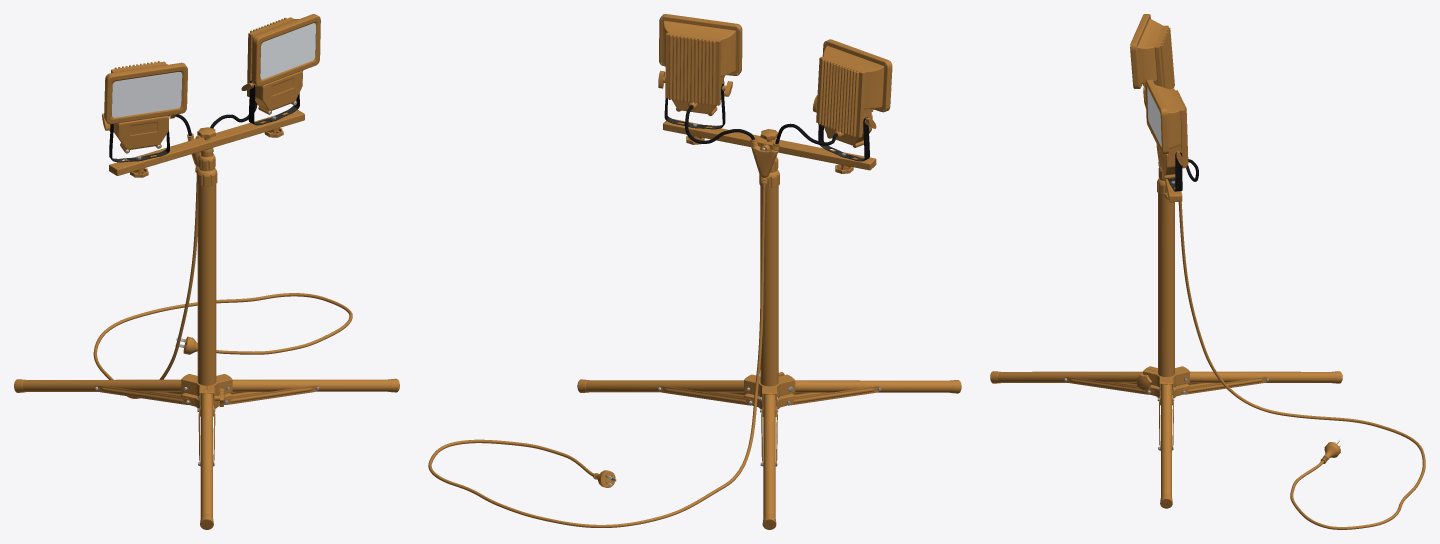
Rendered from WorklightSFAB.fbx.
The picture shows the model from 3 angles, left to right: view 1: azimuth 30°, elevation 25°; view 2: azimuth 150°, elevation 25°; view 3: azimuth 270°, elevation 25°; orthographic projection. The views are drawn at different scales.
Visible parts, largest first — view 1: Frame Vert, Light Left, Light Right, Light L Glass, Cord Primary, Horizontal Frame, Light R Glass, Leg A, Leg B, Leg C, Upper Trige, Struts B (+3 smaller); view 2: Light Right, Light Left, Frame Vert, Cord Primary, Horizontal Frame, Leg A, Leg C, Leg B, Upper Trige, Struts A, Struts C, Power Cord; view 3: Frame Vert, Light Left, Light Right, Cord Primary, Leg B, Leg C, Leg A, Upper Trige, Struts B, Struts C.
Part boxes in pixels (box(x1,y1,x2,y2)): Frame Vert: box(197, 184, 216, 399); Light Left: box(104, 61, 187, 153); Light Right: box(247, 14, 320, 114); Light L Glass: box(112, 72, 182, 117); Cord Primary: box(93, 182, 352, 398); Horizontal Frame: box(109, 110, 304, 175); Light R Glass: box(260, 23, 315, 79); Leg A: box(232, 379, 391, 391); Leg B: box(22, 379, 181, 391); Leg C: box(200, 390, 212, 517); Upper Trige: box(181, 374, 232, 405); Struts B: box(95, 385, 190, 404); Light Right: box(659, 14, 742, 115); Light Left: box(816, 39, 892, 147); Frame Vert: box(760, 186, 778, 400); Cord Primary: box(428, 184, 765, 527); Horizontal Frame: box(663, 119, 875, 170); Leg A: box(585, 380, 743, 392); Leg C: box(795, 380, 953, 392); Leg B: box(763, 394, 775, 517); Upper Trige: box(744, 374, 795, 405); Struts A: box(658, 386, 753, 405); Struts C: box(786, 386, 880, 405); Power Cord: box(750, 138, 779, 184); Frame Vert: box(1158, 193, 1174, 389); Light Left: box(1130, 14, 1174, 108); Light Right: box(1145, 79, 1188, 179); Cord Primary: box(1178, 202, 1425, 529); Leg B: box(1190, 371, 1335, 382); Leg C: box(997, 371, 1142, 382); Leg A: box(1161, 384, 1171, 496); Upper Trige: box(1143, 366, 1189, 394); Struts B: box(1181, 376, 1268, 394); Struts C: box(1064, 376, 1151, 394).
Size of the model in its own units: 82.66 by 90.45 by 98.01.
